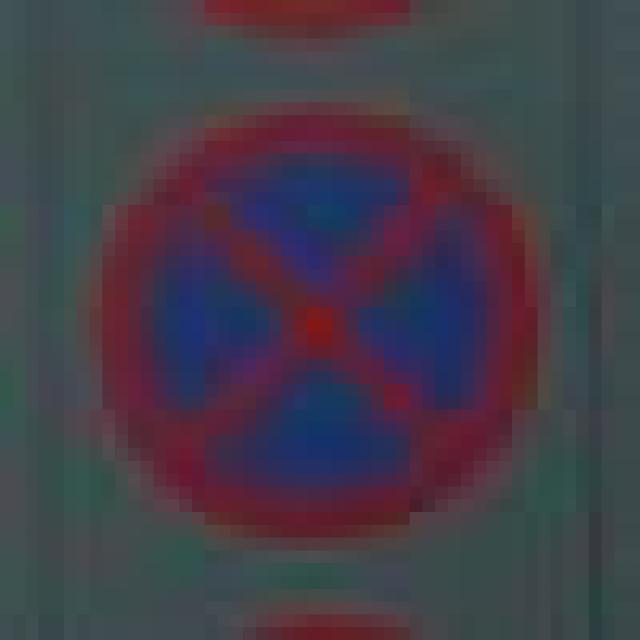NO_STOPPING_OR_STANDING: (90, 102, 538, 525)
